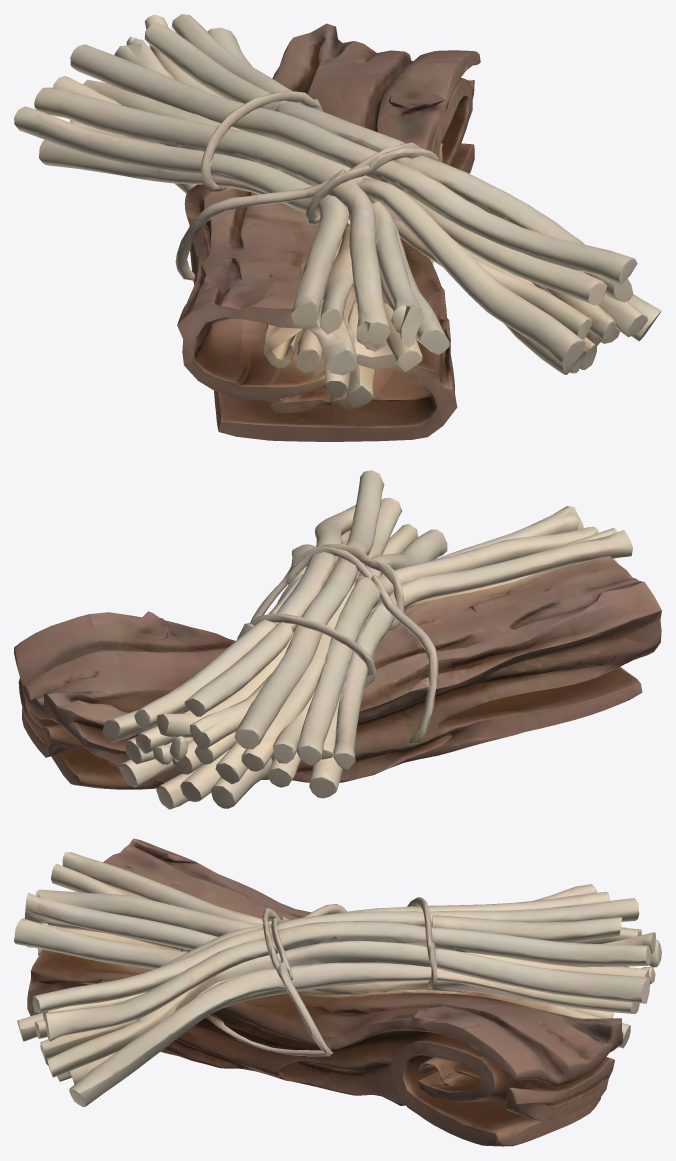
File: fiber.glb
3 renders of one model, top to bottom at view 1: azimuth 30°, elevation 25°; view 2: azimuth 150°, elevation 25°; view 3: azimuth 270°, elevation 25°, orthographic. The views are drawn at different scales.
Parts seen in each view (by area): view 1: model; view 2: model; view 3: model.
Boxes of the visible parts, box(x1,y1,x2,y2) form: model: box(14, 14, 661, 441); model: box(14, 470, 661, 809); model: box(14, 838, 661, 1146).
Bounding box in the file's own units: 0.8295 × 0.2661 × 1.04.
Materials: 1 (1 with a texture image).
